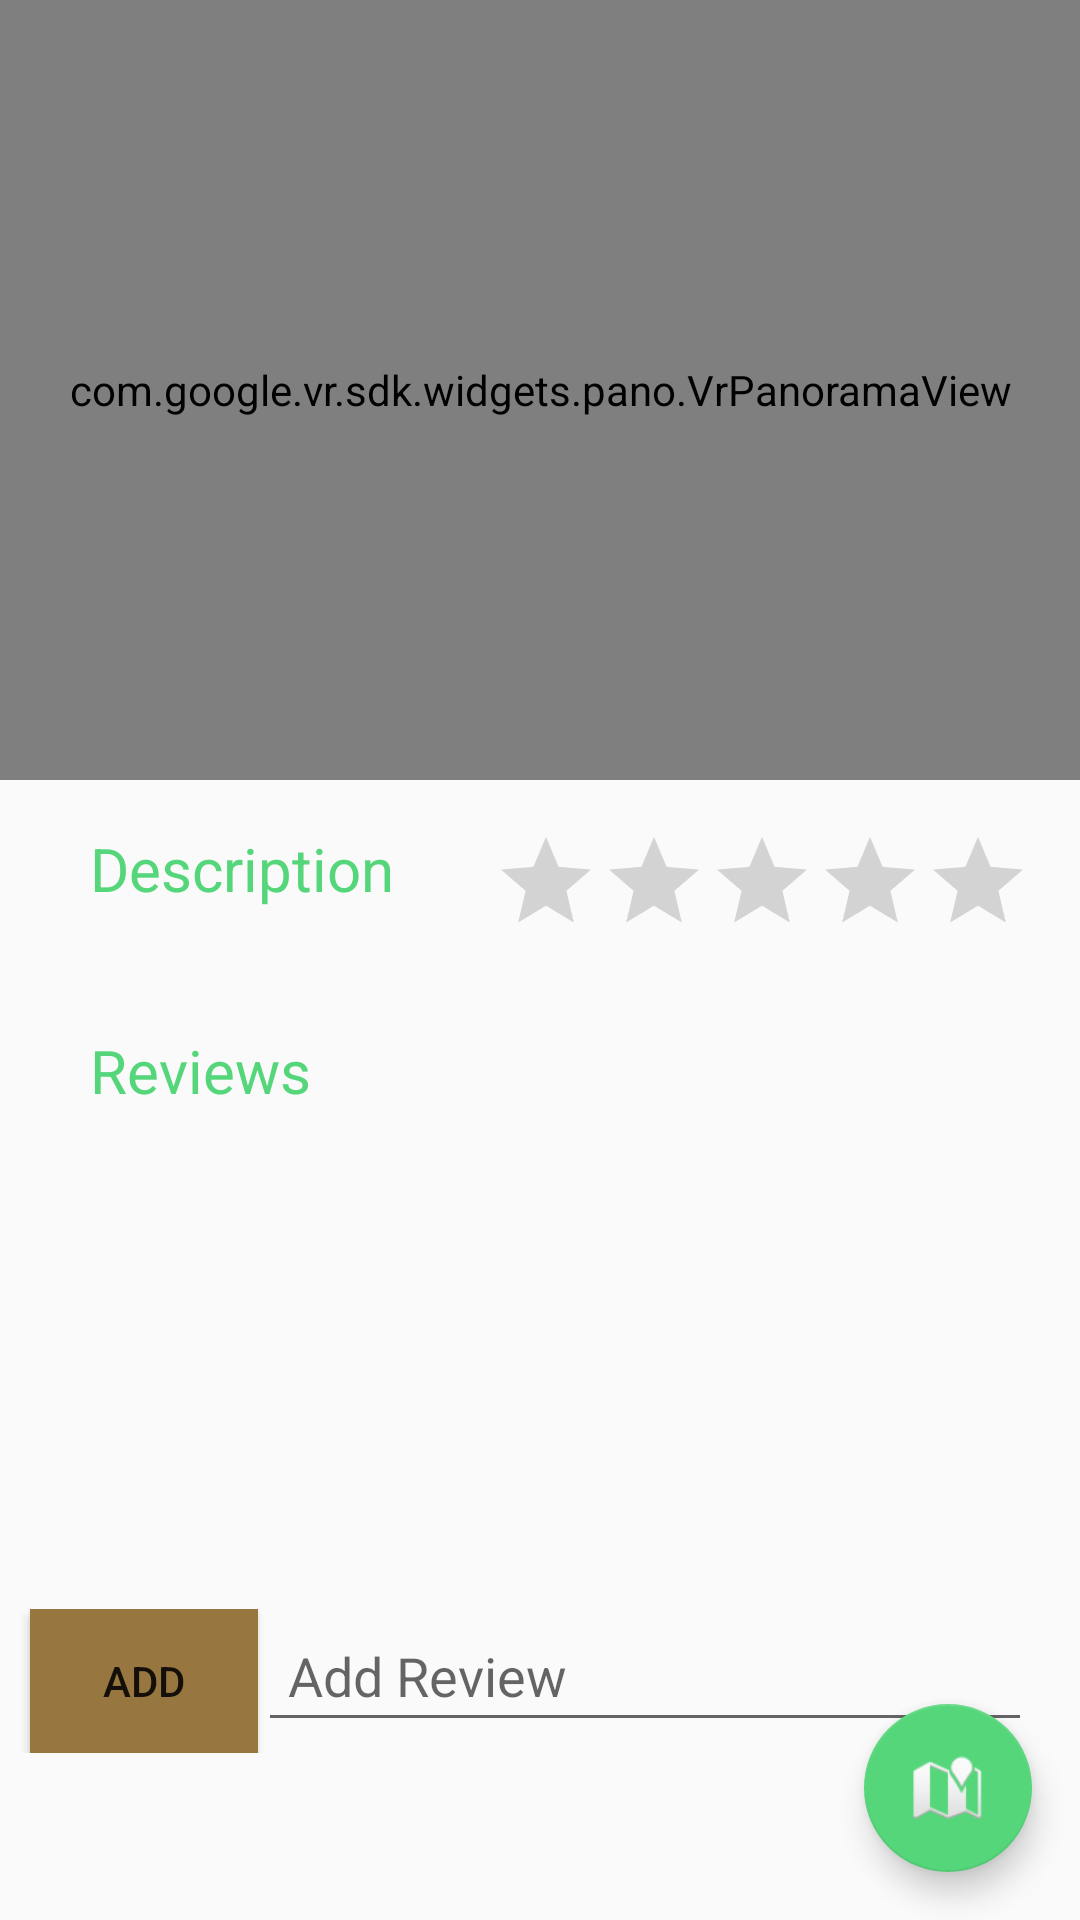

Icons on this 1080×1920 Android screen, each with its box as {"left": x1, "top": y1, "right": x2, "bottom": y2}:
Location in maps: {"left": 864, "top": 1704, "right": 1032, "bottom": 1872}
